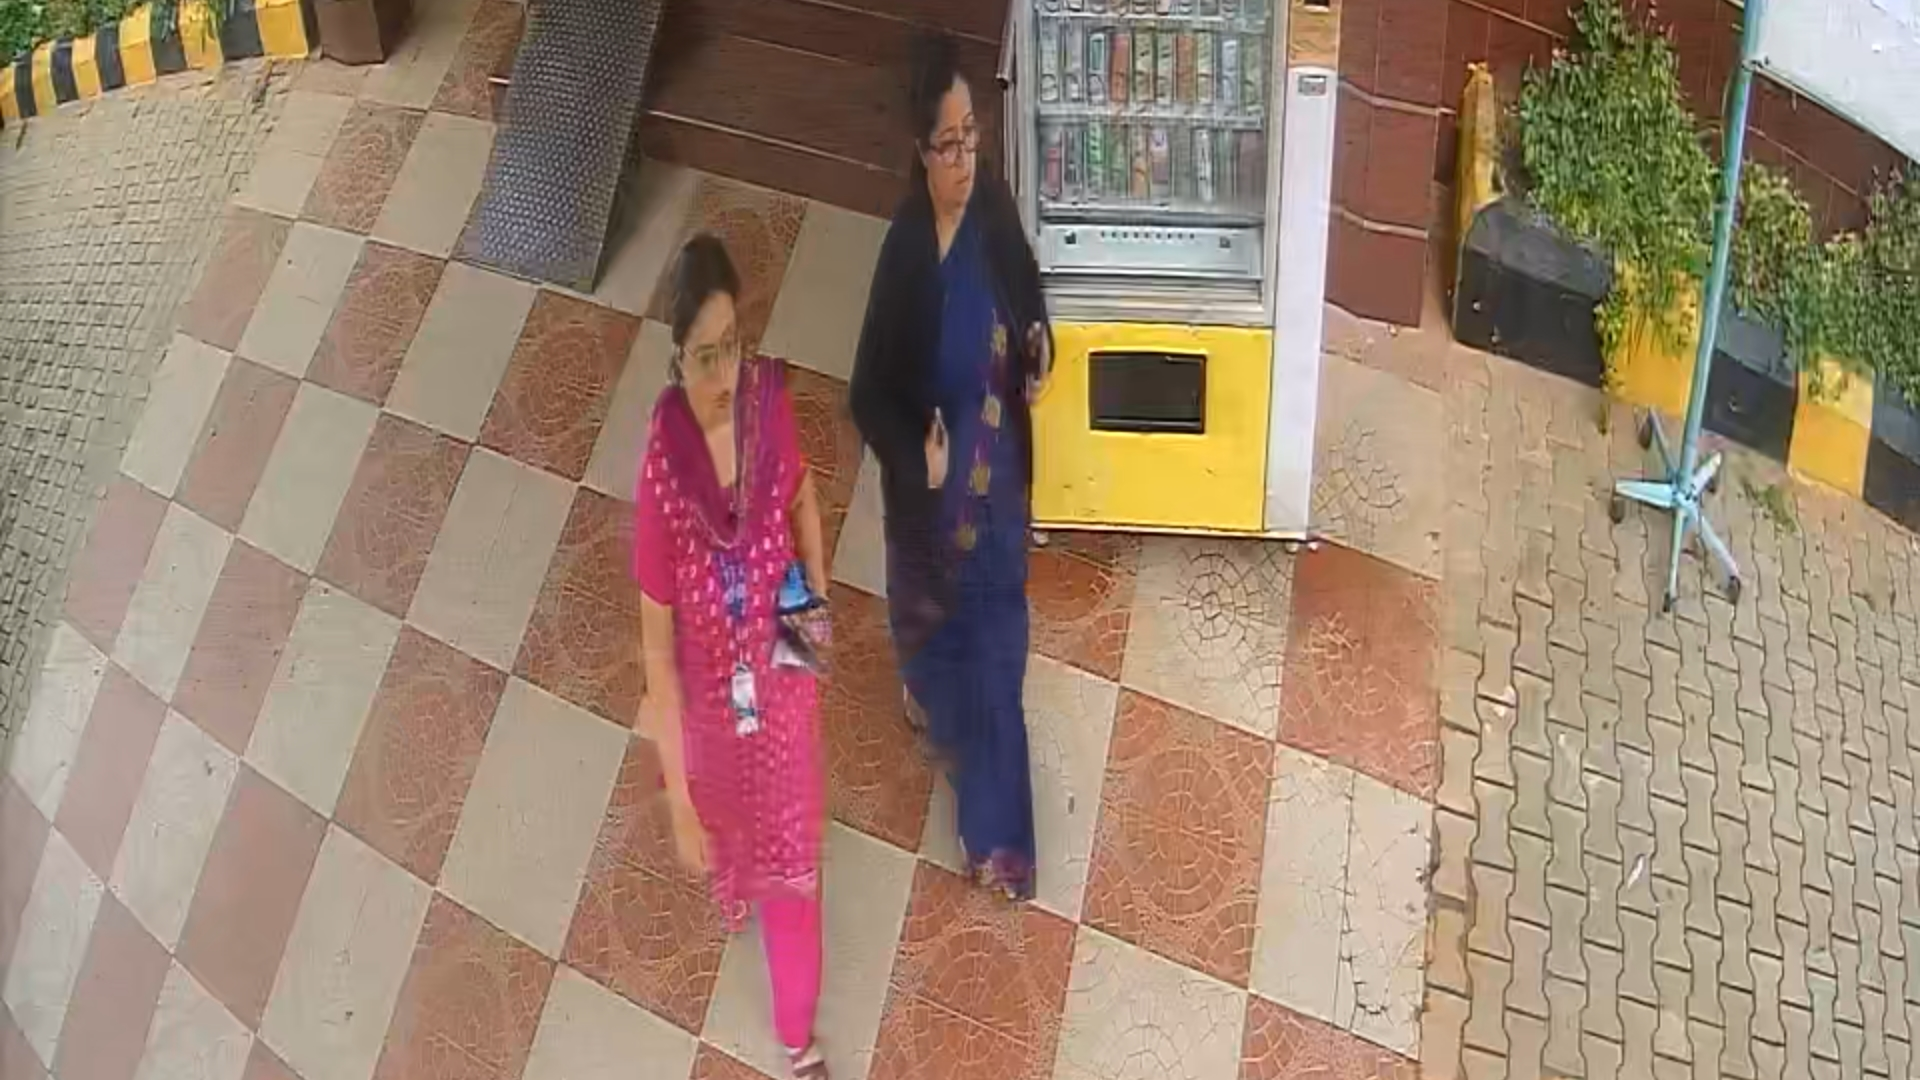intruder: (855, 51, 1058, 899)
not intruder: (616, 225, 847, 1080)
